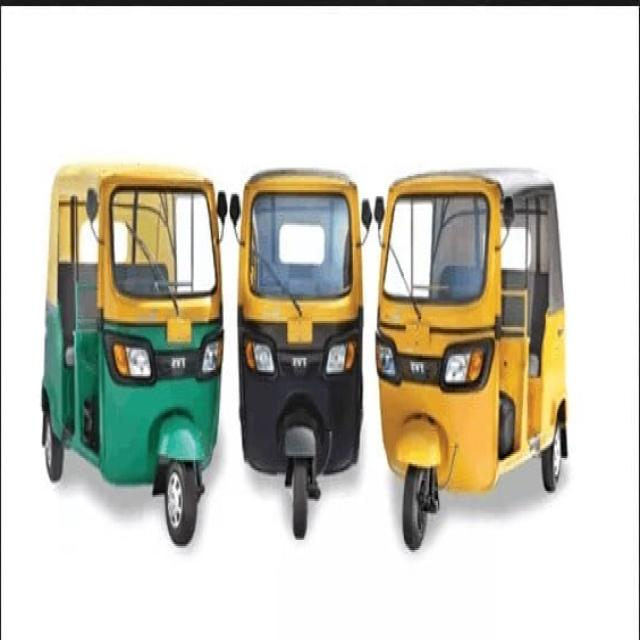autorickshaw: (375, 169, 568, 548), (41, 169, 224, 544), (238, 169, 372, 537), (230, 196, 240, 224)
